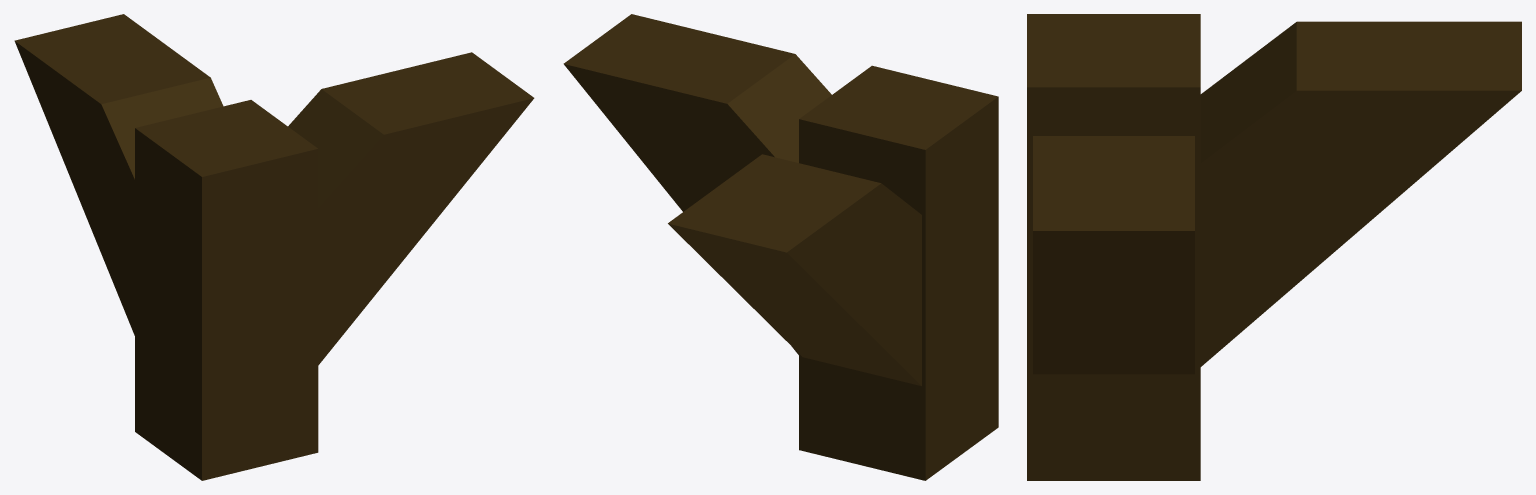
The model's file is temelj ugaoni.FBX.
The picture shows the model from 3 angles, left to right: view 1: azimuth 30°, elevation 25°; view 2: azimuth 150°, elevation 25°; view 3: azimuth 270°, elevation 25°; orthographic projection. The views are drawn at different scales.
Visible parts, largest first — view 1: temelj_Drvo_Ugao004; view 2: temelj_Drvo_Ugao004; view 3: temelj_Drvo_Ugao004.
Part boxes in pixels (left/top/right/bottom): temelj_Drvo_Ugao004: left=14, top=14, right=534, bottom=480; temelj_Drvo_Ugao004: left=563, top=14, right=998, bottom=480; temelj_Drvo_Ugao004: left=1027, top=14, right=1521, bottom=480.
Bounding box in the file's own units: 57.63 × 50 × 56.98.
